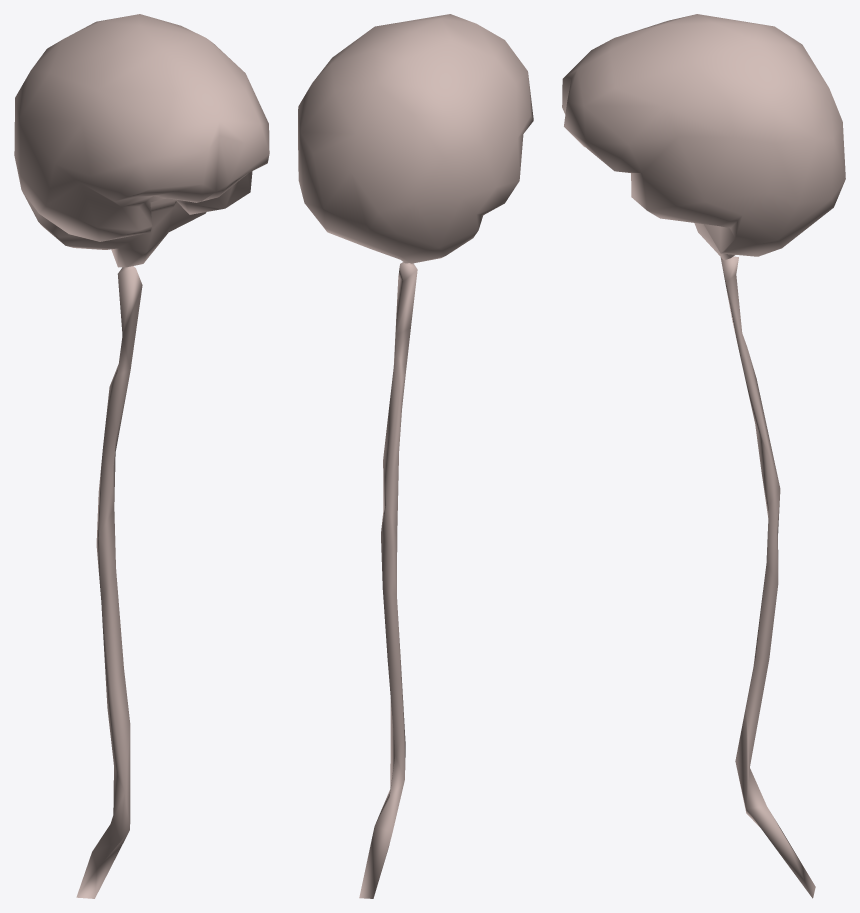
Rendered from pediatric_child_5y_female.nervous.LOD3.glb.
The picture shows the model from 3 angles, left to right: view 1: azimuth 30°, elevation 25°; view 2: azimuth 150°, elevation 25°; view 3: azimuth 270°, elevation 25°; orthographic projection. The views are drawn at different scales.
Visible parts, largest first — view 1: PEDIATRIC.CHILD_5Y.FEMALE.NERVOUS.BRAIN, PEDIATRIC.CHILD_5Y.FEMALE.NERVOUS.SPINAL_CORD; view 2: PEDIATRIC.CHILD_5Y.FEMALE.NERVOUS.BRAIN, PEDIATRIC.CHILD_5Y.FEMALE.NERVOUS.SPINAL_CORD; view 3: PEDIATRIC.CHILD_5Y.FEMALE.NERVOUS.BRAIN, PEDIATRIC.CHILD_5Y.FEMALE.NERVOUS.SPINAL_CORD.
Boxes of the visible parts, x1,y1,x2,y2 form: PEDIATRIC.CHILD_5Y.FEMALE.NERVOUS.BRAIN: (14, 14, 269, 267); PEDIATRIC.CHILD_5Y.FEMALE.NERVOUS.SPINAL_CORD: (76, 266, 142, 898); PEDIATRIC.CHILD_5Y.FEMALE.NERVOUS.BRAIN: (298, 14, 533, 263); PEDIATRIC.CHILD_5Y.FEMALE.NERVOUS.SPINAL_CORD: (359, 262, 417, 898); PEDIATRIC.CHILD_5Y.FEMALE.NERVOUS.BRAIN: (562, 14, 845, 260); PEDIATRIC.CHILD_5Y.FEMALE.NERVOUS.SPINAL_CORD: (720, 256, 815, 898).
Size of the model in its own units: 0.126 by 0.5262 by 0.155.
